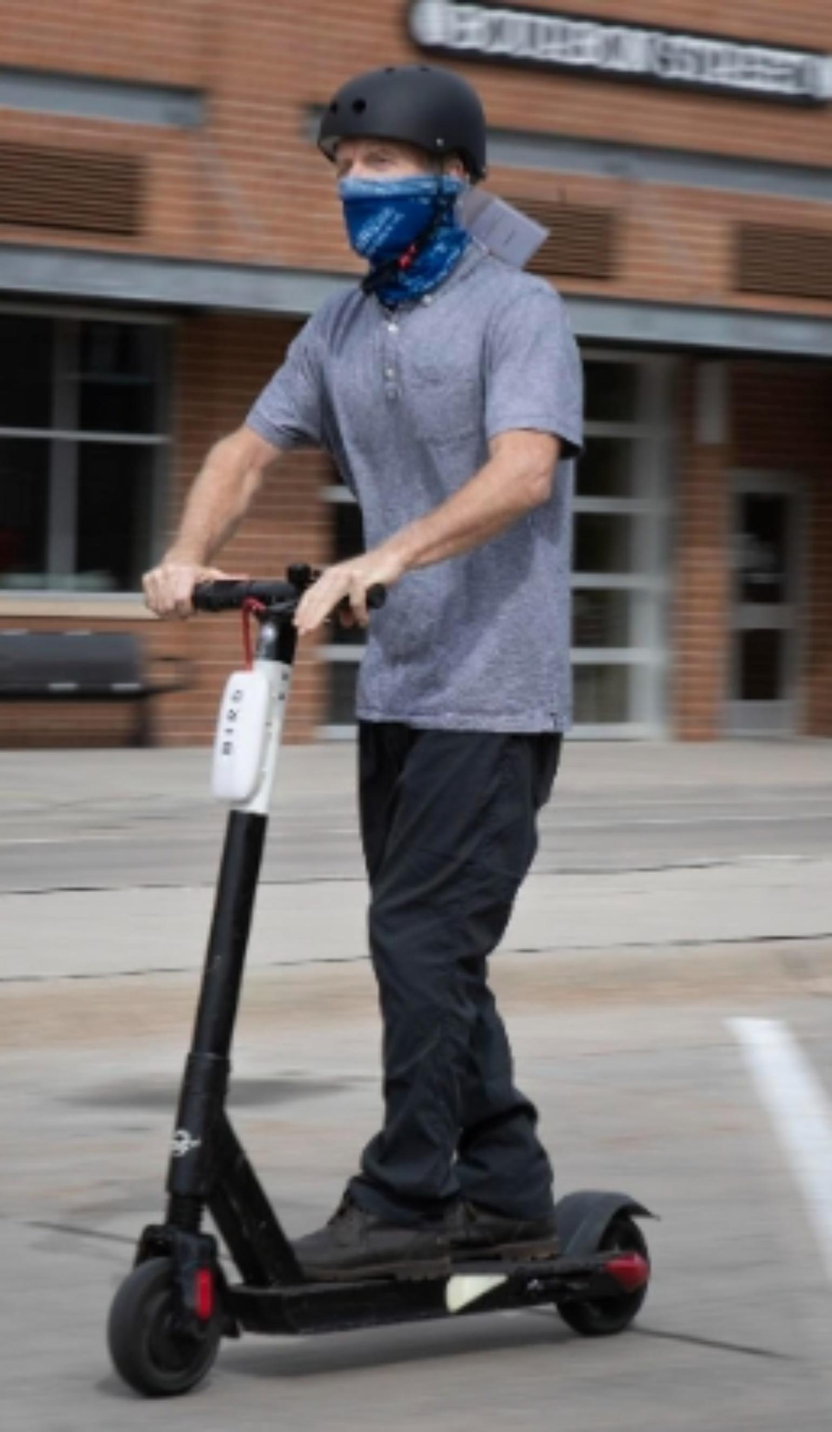helmet: (286, 30, 517, 295)
human: (116, 46, 564, 1239)
kickboard: (94, 1184, 649, 1409)
